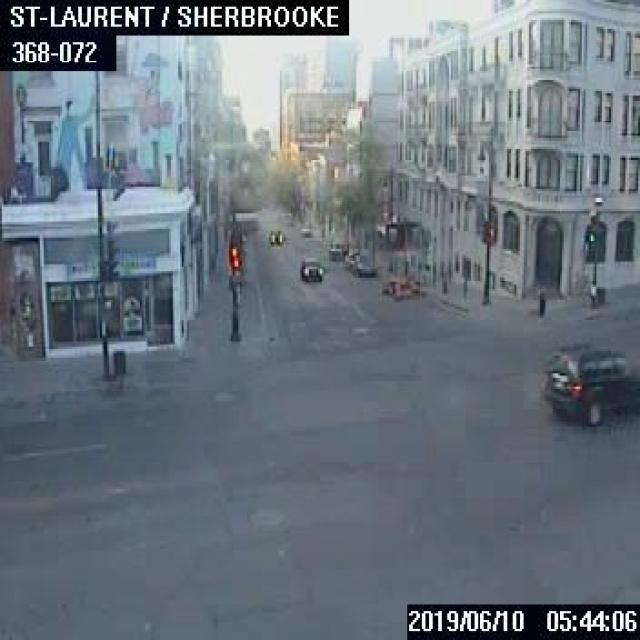construction: (380, 220, 420, 300)
vehicle: (538, 342, 638, 422), (299, 255, 322, 281), (353, 251, 373, 275), (327, 239, 347, 259), (343, 247, 358, 264), (267, 229, 282, 245)
